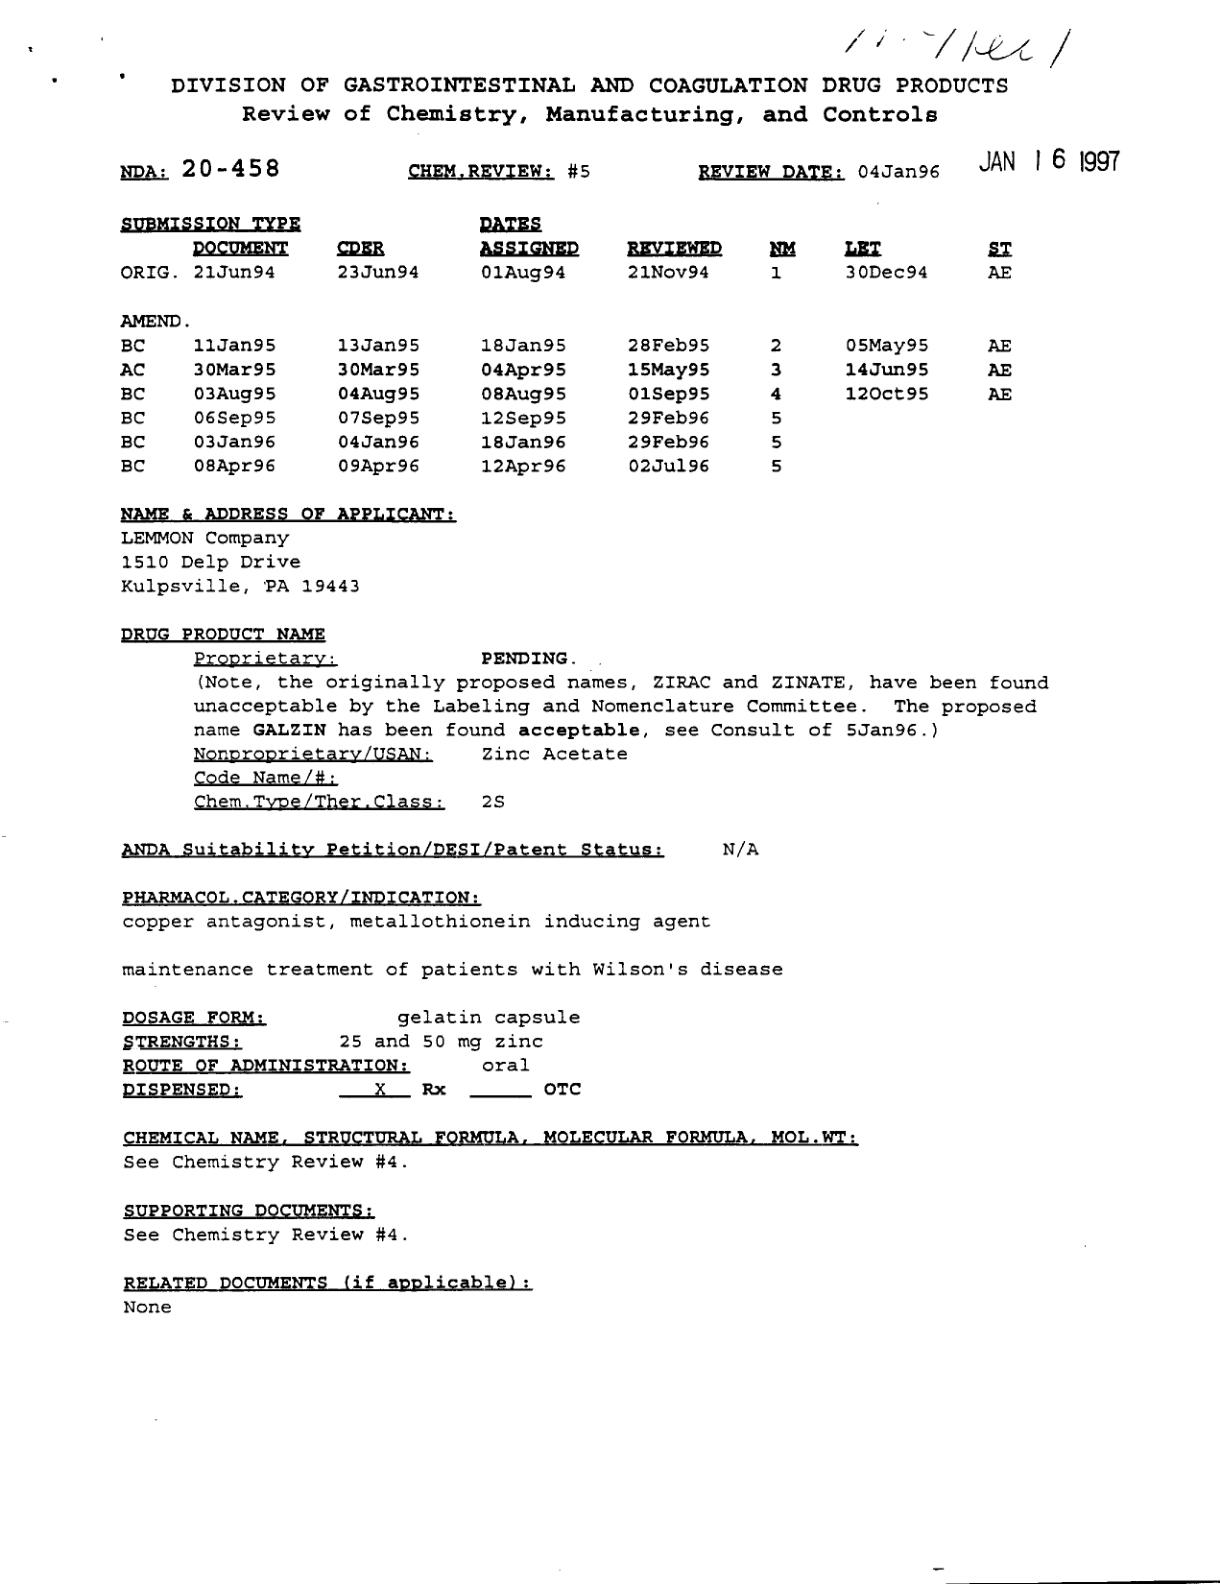nolines: (118, 213, 1018, 478)
